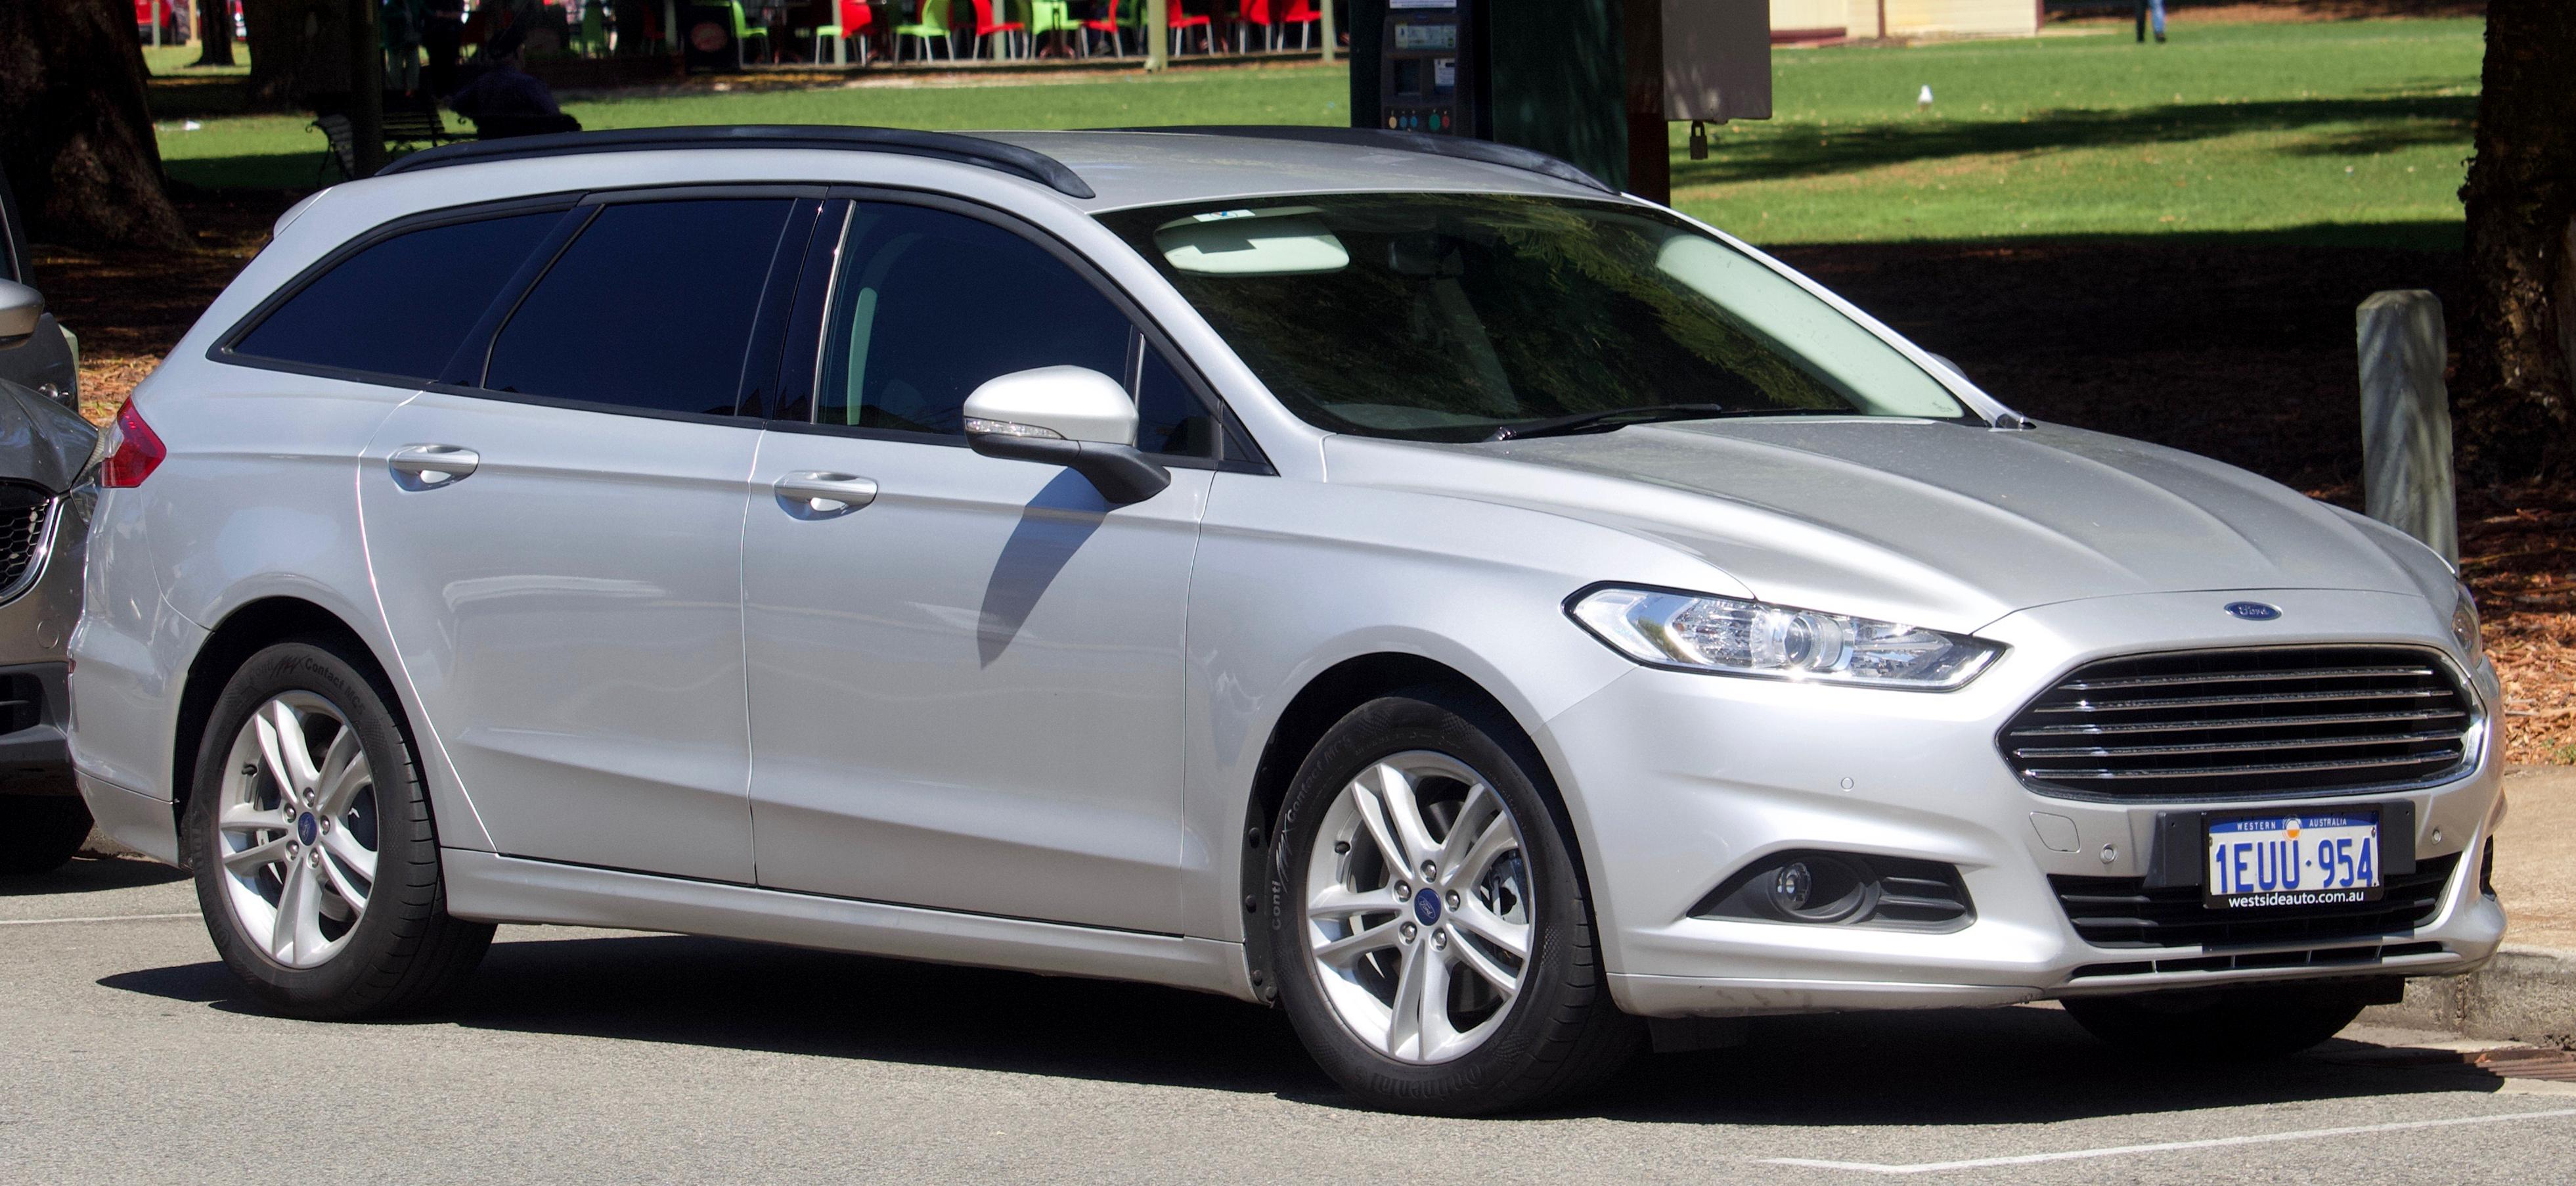car: (74, 131, 2520, 1106)
